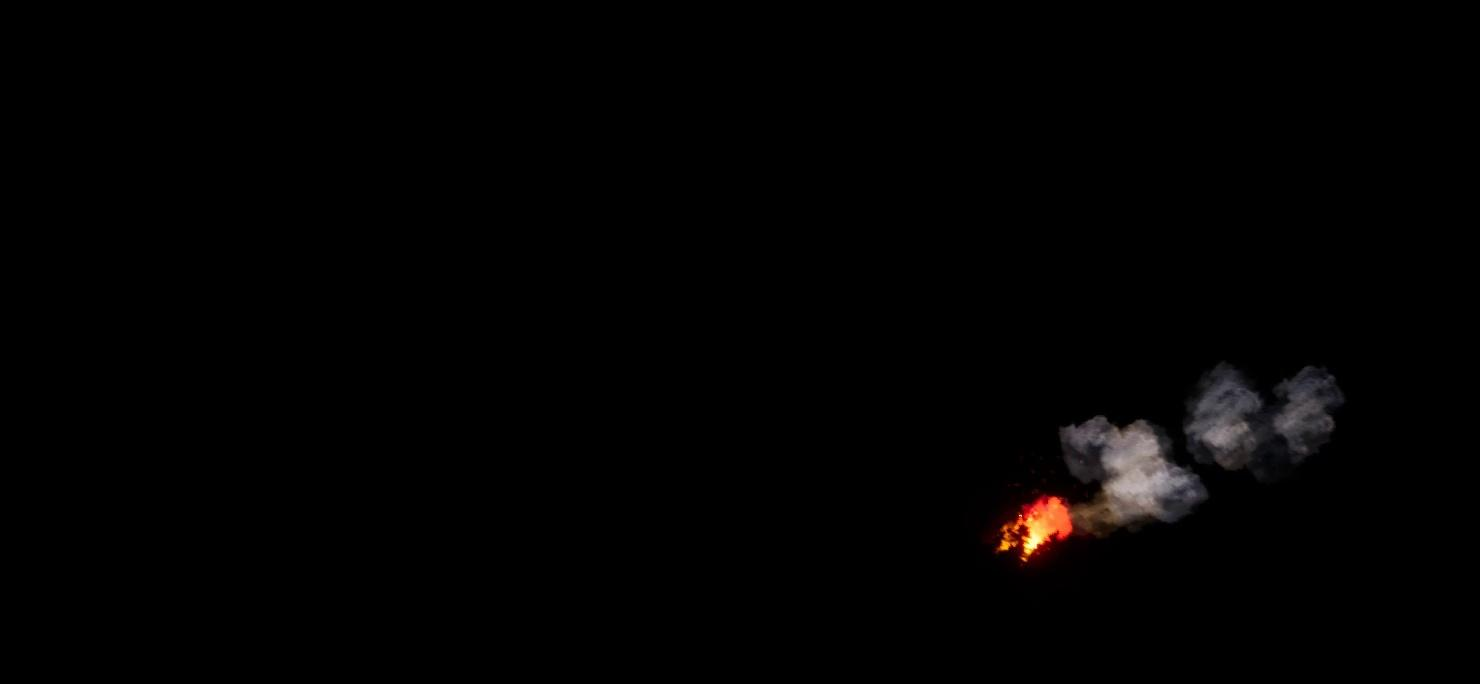fire: (998, 499, 1075, 563)
smoke: (1064, 363, 1336, 532)
